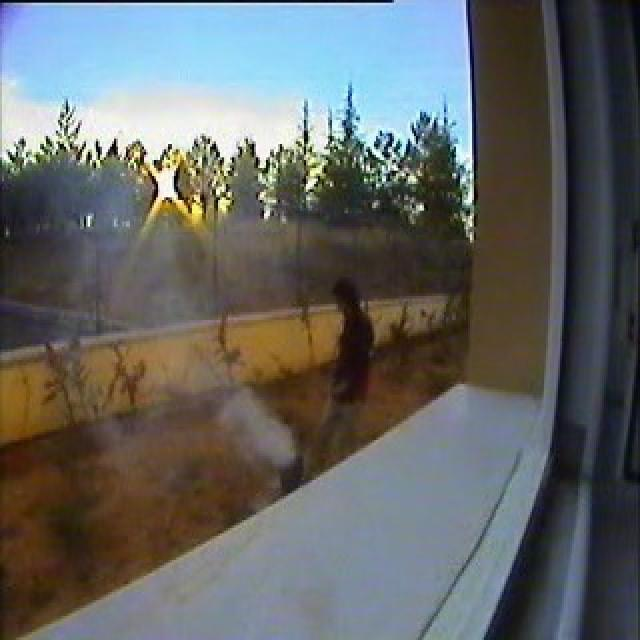Smoke: (72, 158, 178, 328), (221, 390, 294, 464)
